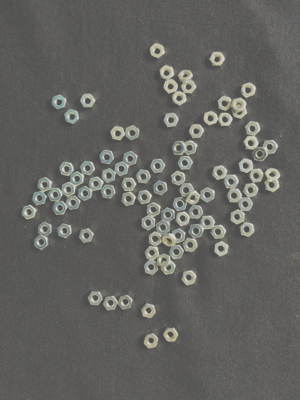nut: (241, 82, 257, 99), (150, 43, 166, 59), (51, 95, 68, 110), (252, 147, 269, 162), (209, 52, 225, 67), (181, 80, 197, 95), (125, 125, 140, 141), (163, 113, 179, 128), (231, 98, 247, 113), (218, 112, 234, 127), (245, 121, 261, 136), (188, 124, 204, 139), (178, 156, 194, 171), (123, 151, 138, 167), (114, 161, 129, 177), (101, 168, 116, 184), (80, 161, 96, 176), (59, 162, 75, 177), (70, 171, 85, 187), (66, 196, 82, 211), (38, 177, 53, 193), (79, 229, 95, 244), (212, 166, 228, 181), (243, 183, 259, 198), (172, 197, 188, 212), (240, 222, 255, 238), (211, 225, 227, 240), (183, 238, 199, 253), (144, 246, 160, 261), (181, 271, 197, 286), (144, 333, 159, 349), (262, 140, 279, 154), (178, 183, 195, 197), (65, 110, 80, 125), (172, 91, 187, 106), (203, 111, 218, 126), (100, 150, 115, 165), (239, 158, 254, 173), (121, 192, 136, 207), (78, 186, 93, 201), (61, 182, 76, 197), (32, 191, 47, 206), (21, 205, 36, 220), (57, 224, 72, 239), (171, 171, 186, 186), (153, 181, 168, 196), (137, 190, 152, 205), (249, 168, 264, 183), (176, 212, 191, 227), (230, 210, 245, 225), (189, 224, 204, 239), (214, 242, 229, 257), (172, 229, 187, 244), (169, 245, 184, 260), (88, 291, 103, 306), (103, 296, 118, 311), (118, 295, 133, 310), (80, 94, 96, 108), (244, 136, 260, 150), (150, 159, 166, 173), (121, 178, 137, 192), (48, 188, 64, 202), (52, 202, 68, 216), (265, 169, 281, 183), (223, 175, 239, 189), (227, 189, 243, 203), (238, 198, 254, 212), (201, 187, 215, 203), (200, 216, 216, 230), (161, 261, 177, 275), (142, 303, 156, 319), (164, 79, 178, 94), (111, 126, 125, 141), (218, 96, 232, 111), (233, 105, 248, 119), (172, 141, 187, 155), (101, 185, 116, 199), (89, 177, 104, 191), (38, 222, 52, 237), (34, 236, 49, 250), (136, 170, 151, 184), (186, 191, 201, 205), (147, 203, 161, 218), (161, 208, 175, 223), (156, 220, 170, 235), (189, 206, 204, 220), (149, 232, 163, 247), (162, 233, 177, 247), (157, 253, 171, 268), (144, 260, 158, 275), (164, 328, 179, 342), (184, 140, 197, 156), (160, 66, 174, 80), (178, 70, 193, 83), (265, 180, 280, 193), (142, 216, 155, 231)
